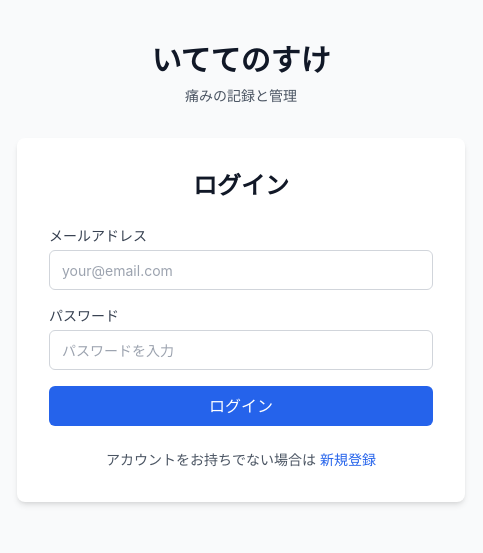
Test: Login Page › should display error message on failed login
Step 1. Type "test@example.com" into the field labelled "メールアドレス" → [241, 270], box 49,250 -> 433,290
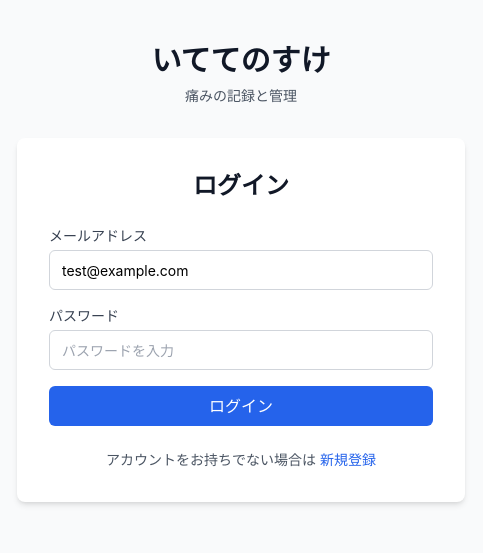
Step 2. Type "wrongpassword" into the password field labelled "パスワード" → [241, 350], box 49,330 -> 433,370
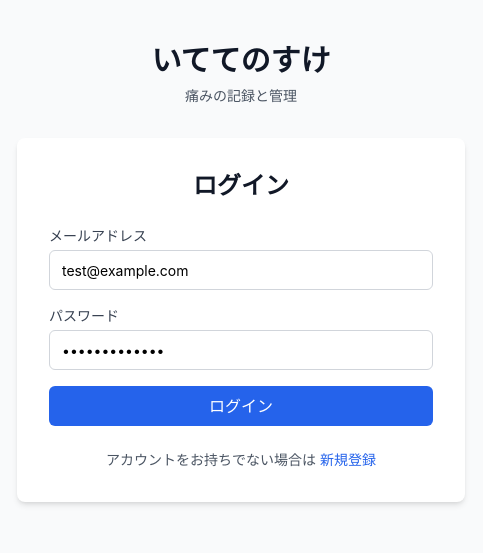
Step 3. Click the button "ログイン" → [241, 406], box 49,386 -> 433,426
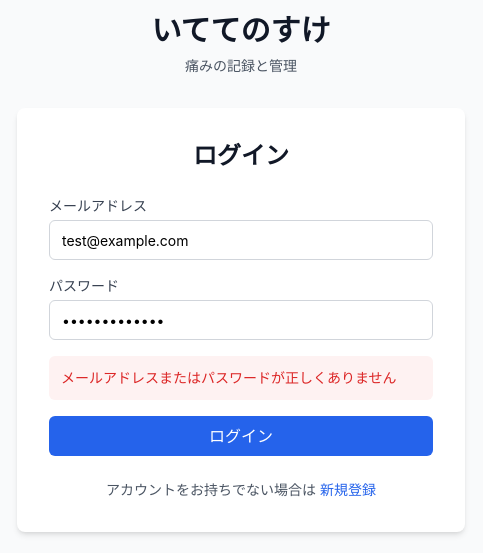
Expected: the text "メールアドレスまたはパスワードが正しくありません" is shown, 61,368 -> 421,388
